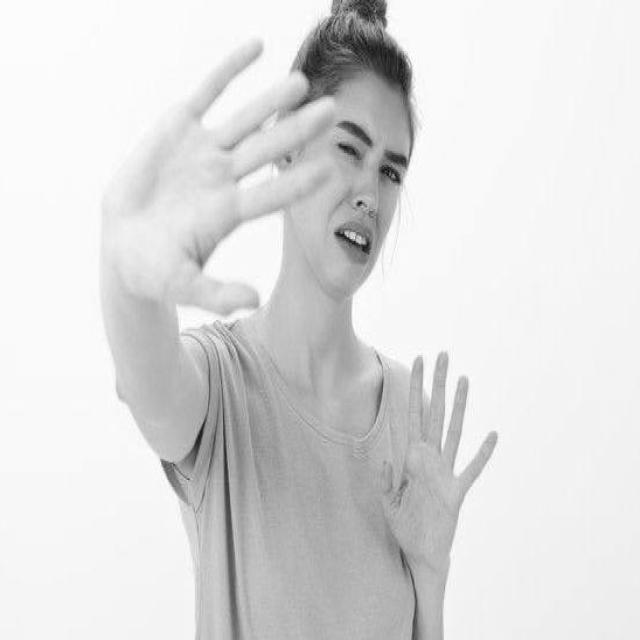stop: (375, 341, 502, 584)
